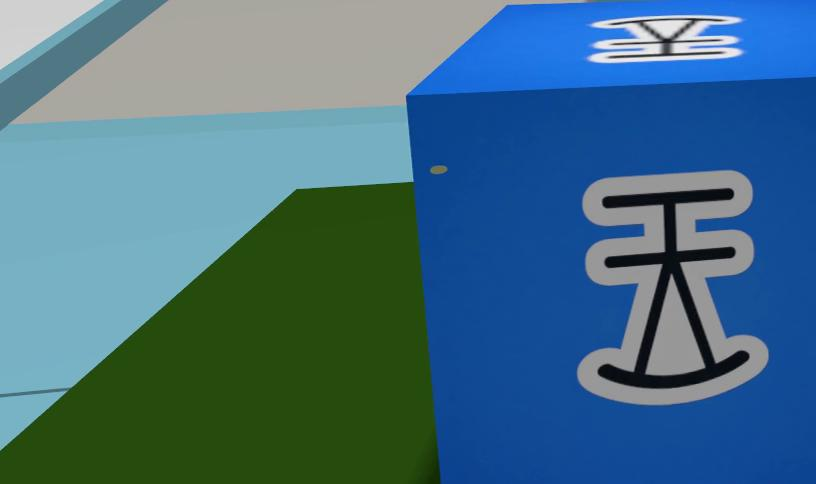KFS_REAL: (405, 0, 816, 483), (578, 171, 767, 405), (589, 16, 741, 62)
